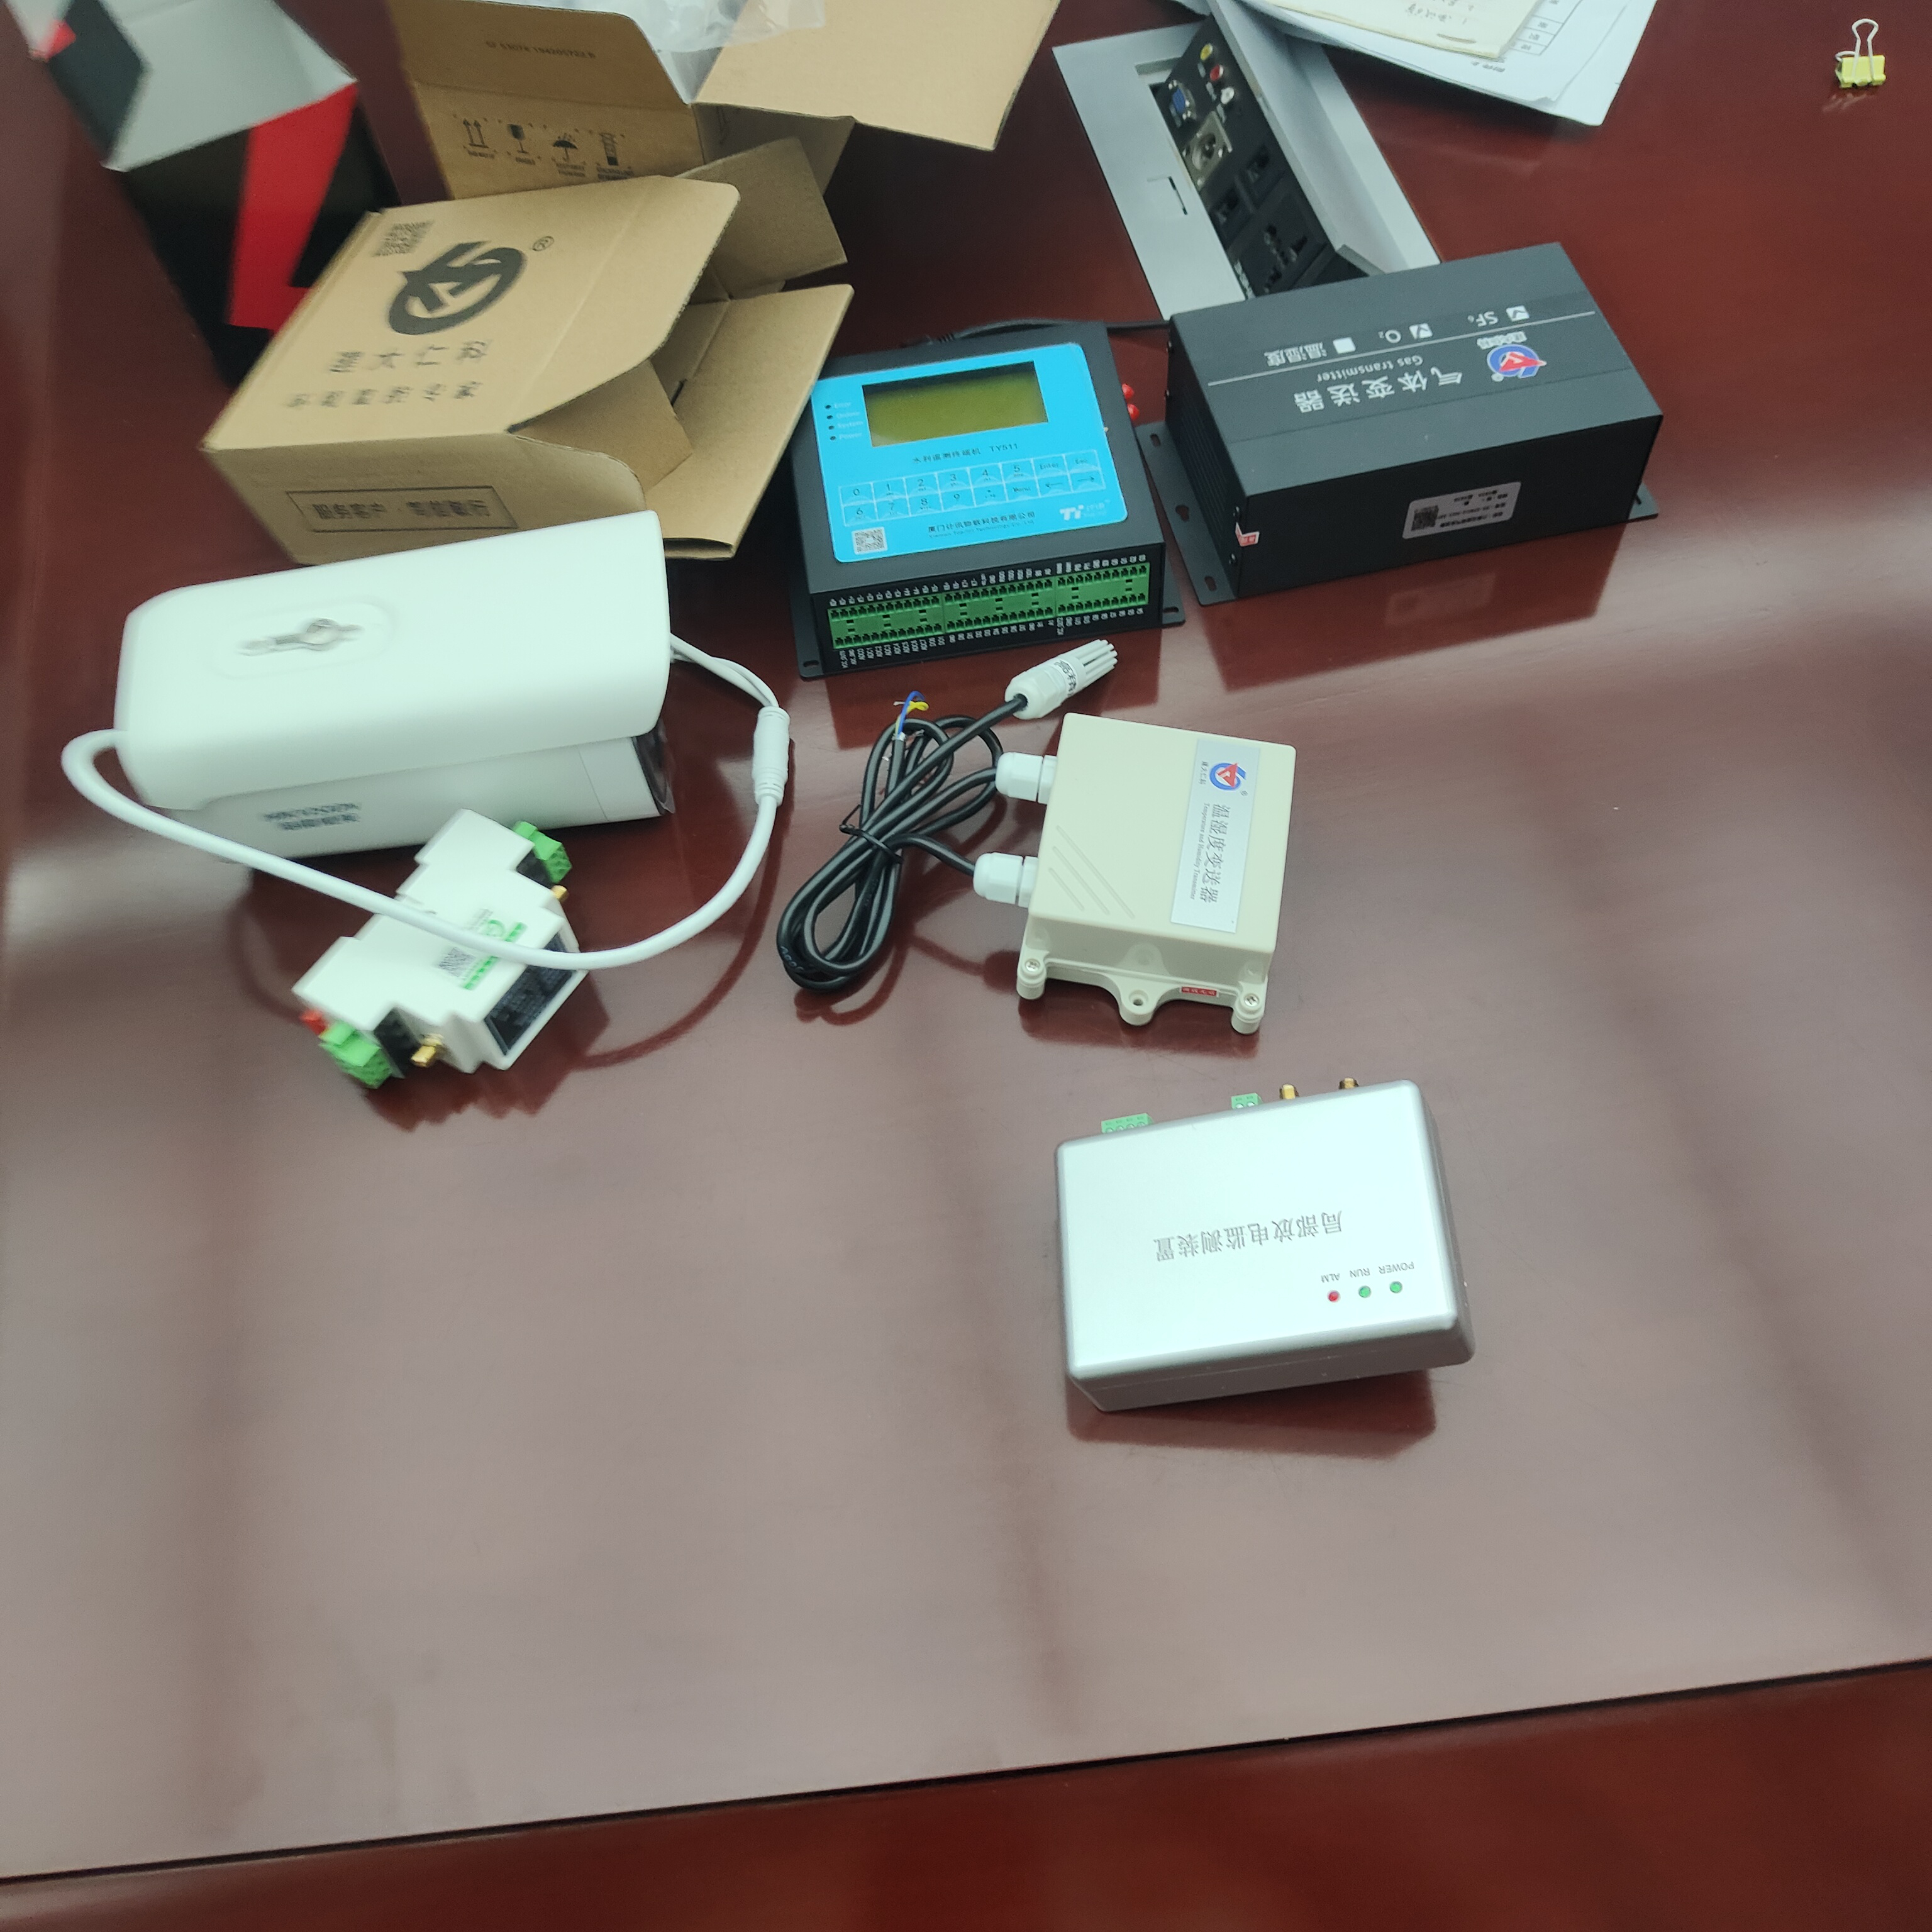dgjs: (274, 809, 614, 1099)
hkws: (110, 518, 692, 830)
jbfdjc: (1035, 1054, 1499, 1422)
qtbsq: (1155, 241, 1651, 594)
slyczd: (768, 318, 1175, 662)
wsdbsq: (984, 681, 1318, 1021)
